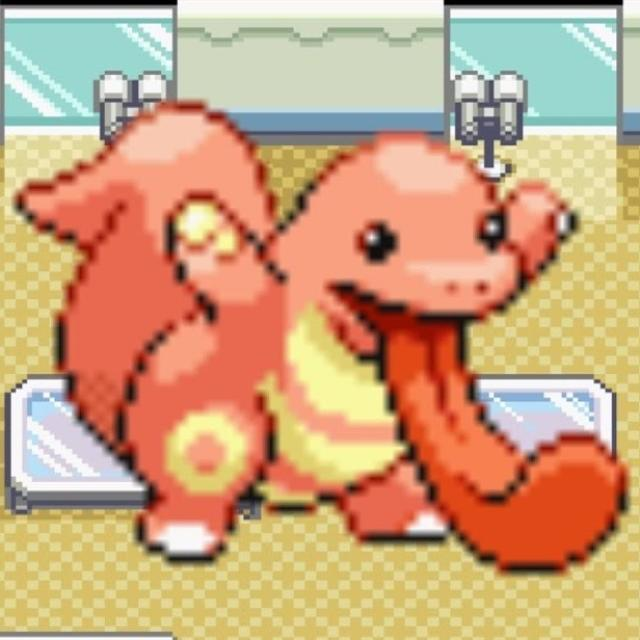Lickitung: (22, 100, 605, 570)
